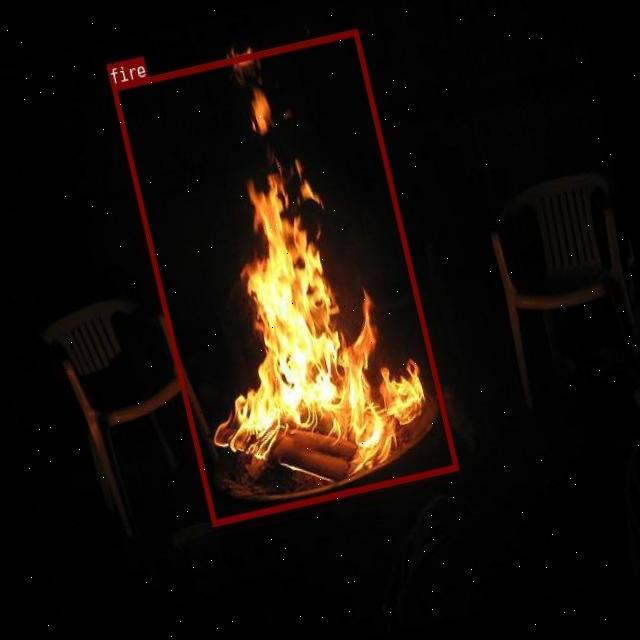fire: (110, 28, 458, 524)
